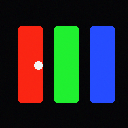0 point: (34, 61, 42, 69)
